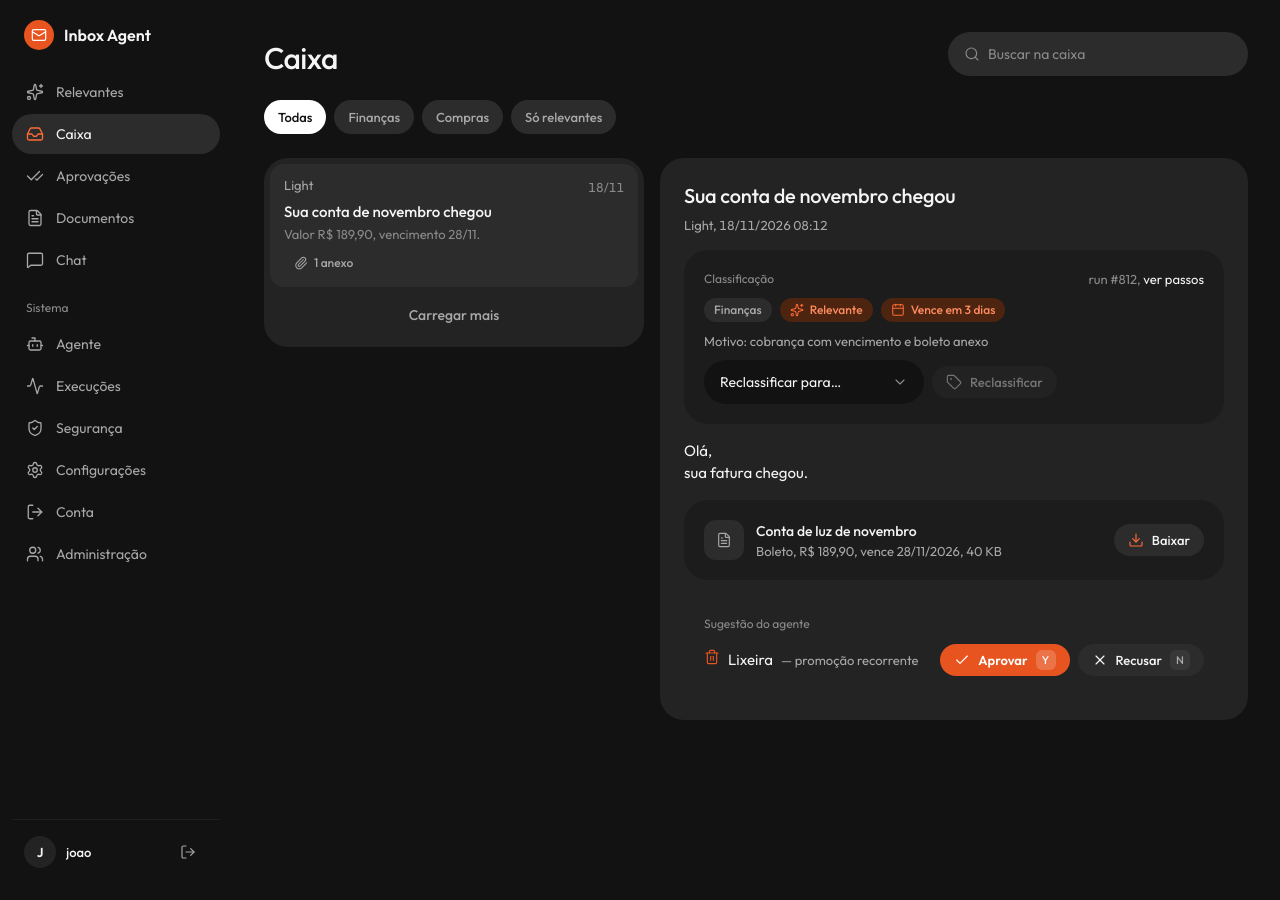
Scenario: load_more_sends_cursor_and_appends
Click the button "Carregar mais".
click(454, 315)  # box [276,295,632,335]
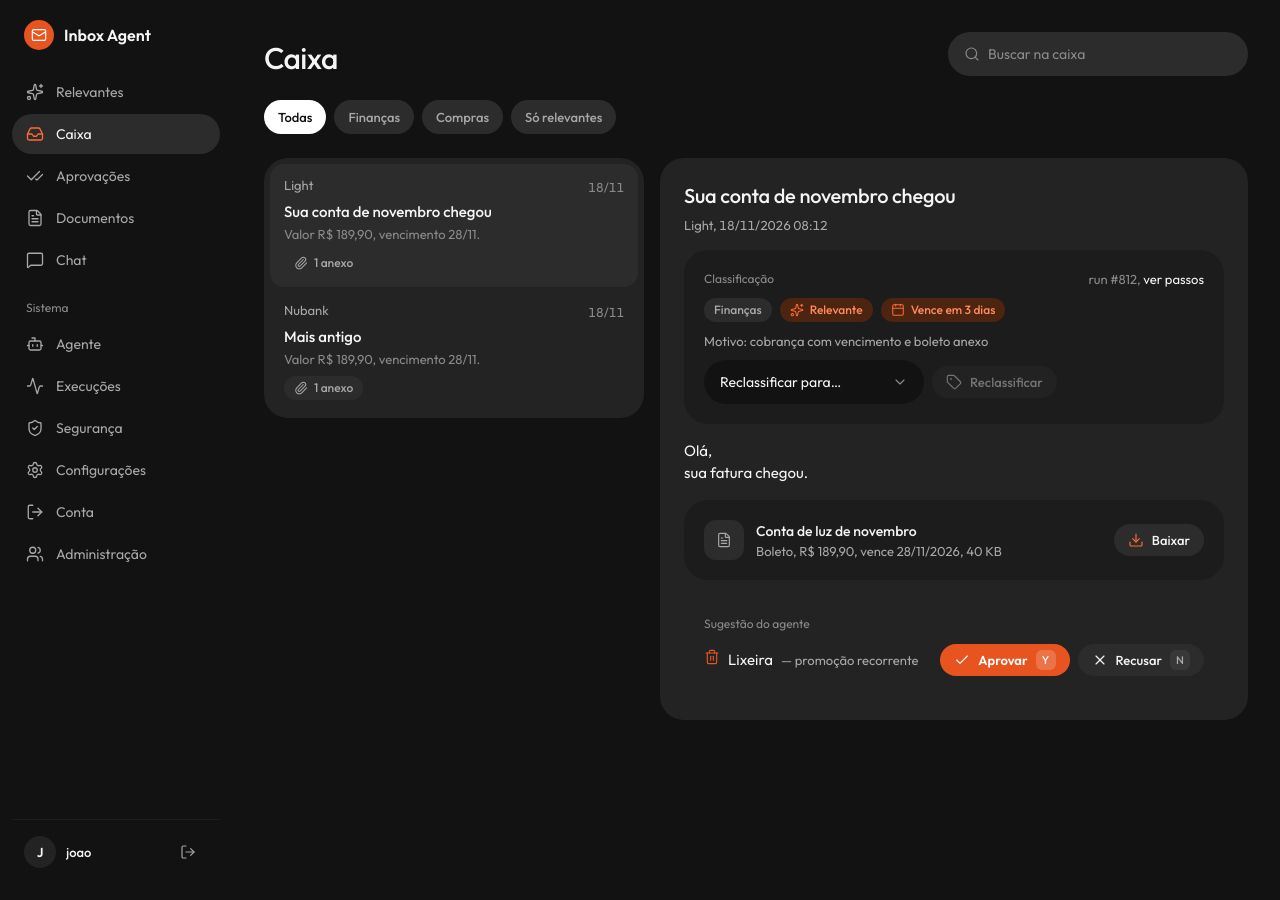
Expected: the link "Mais antigo" is shown, [270,289,638,412]
Expected: the button "Carregar mais" is gone
